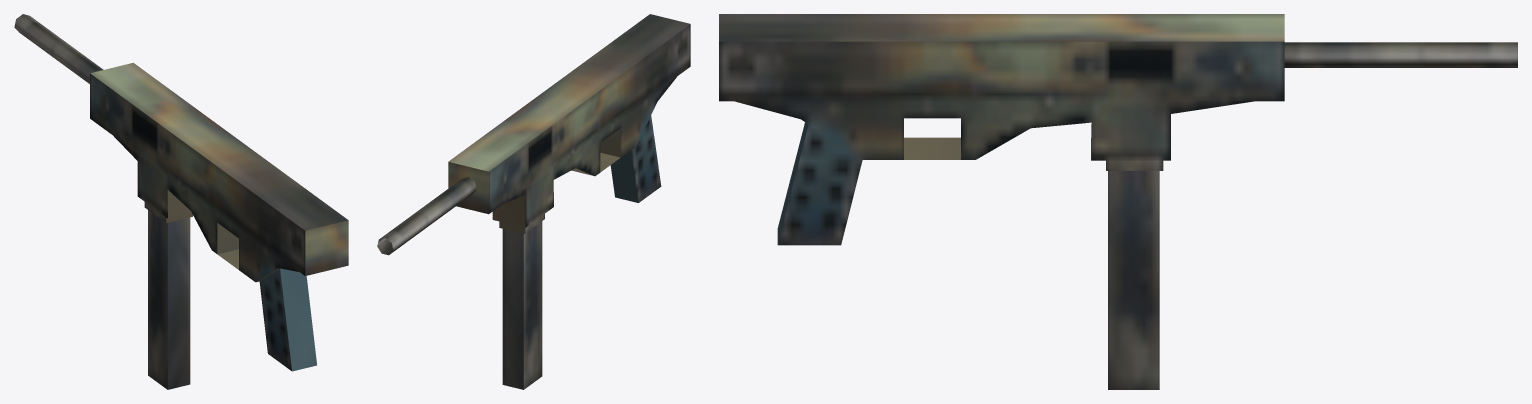
The model's file is luty_low_poly_ps1.glb.
3 renders of one model, left to right at view 1: azimuth 30°, elevation 25°; view 2: azimuth 150°, elevation 25°; view 3: azimuth 270°, elevation 25°, orthographic. The views are drawn at different scales.
Visible parts, largest first — view 1: Object_2; view 2: Object_2; view 3: Object_2.
Boxes of the visible parts, box(x1,y1,x2,y2) form: Object_2: box(14, 14, 348, 389); Object_2: box(377, 14, 690, 389); Object_2: box(719, 14, 1517, 389).
Bounding box in the file's own units: 0.3823 × 2.27 × 4.64.
Materials: 1 (1 with a texture image).
